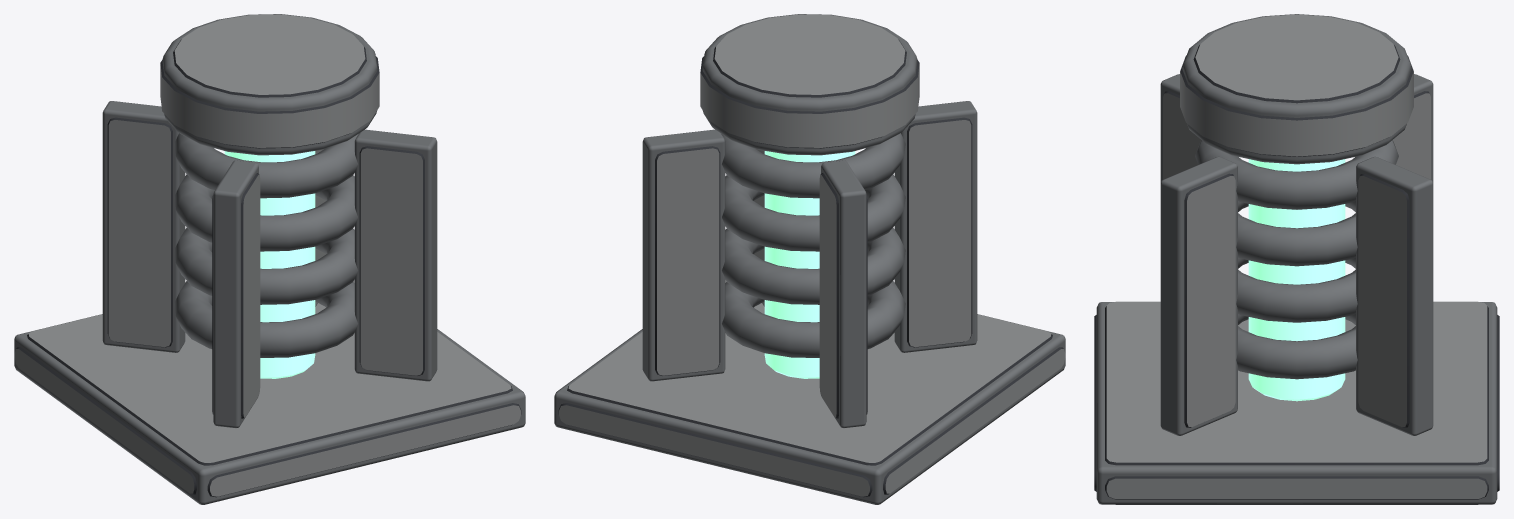
Rendered from R4X_EnergyRegenerator.glb.
3 views of the same model, side by side, from view 1: azimuth 30°, elevation 25°; view 2: azimuth 150°, elevation 25°; view 3: azimuth 270°, elevation 25° (orthographic). The views are drawn at different scales.
Visible parts, largest first — view 1: R4X_EnergyRegenerator_Body; view 2: R4X_EnergyRegenerator_Body; view 3: R4X_EnergyRegenerator_Body.
Part boxes in pixels (x1,y1,x2,y2): R4X_EnergyRegenerator_Body: [14, 14, 525, 504]; R4X_EnergyRegenerator_Body: [554, 14, 1065, 504]; R4X_EnergyRegenerator_Body: [1094, 14, 1499, 504].
Bounding box in the file's own units: 0.52 × 0.52 × 0.52.
